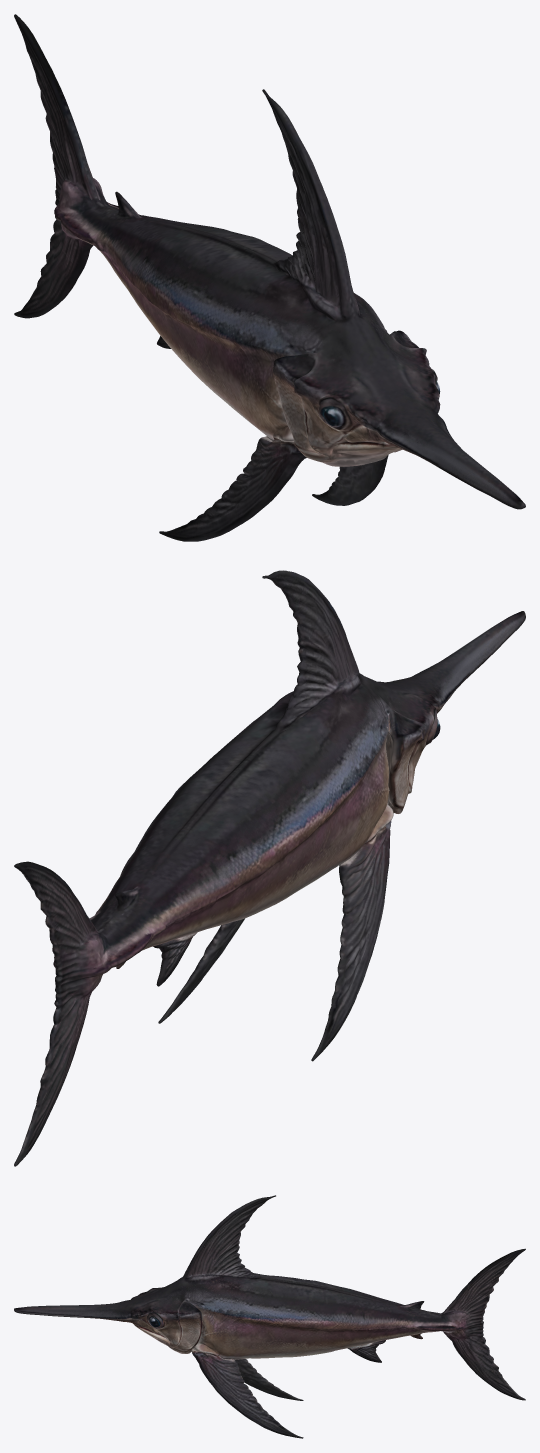
File: sword3.glb
3 renders of one model, top to bottom at view 1: azimuth 30°, elevation 25°; view 2: azimuth 150°, elevation 25°; view 3: azimuth 270°, elevation 25°, orthographic. The views are drawn at different scales.
Bounding box in the file's own units: 0.1772 × 0.4835 × 0.9998.
1 material, 1 textured.
